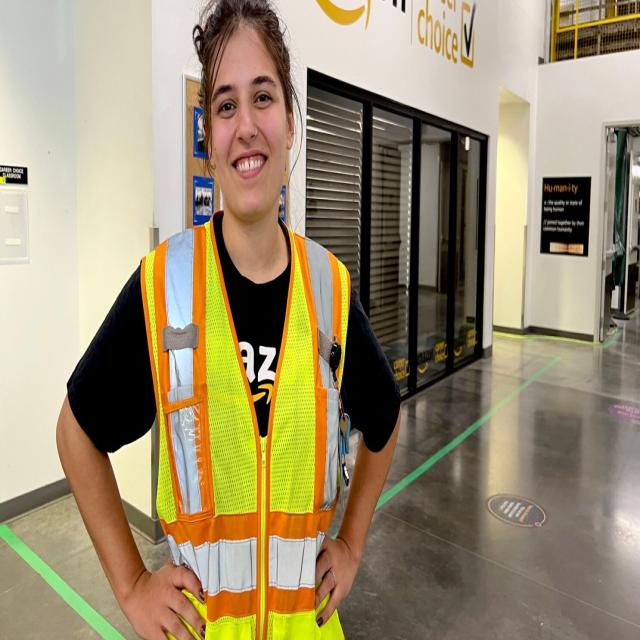vest: (142, 219, 344, 640)
